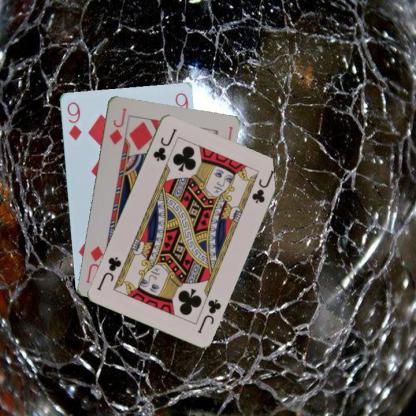9d: (64, 100, 83, 142)
Jc: (195, 296, 222, 336), (150, 126, 178, 162)
Jd: (106, 105, 127, 146)
